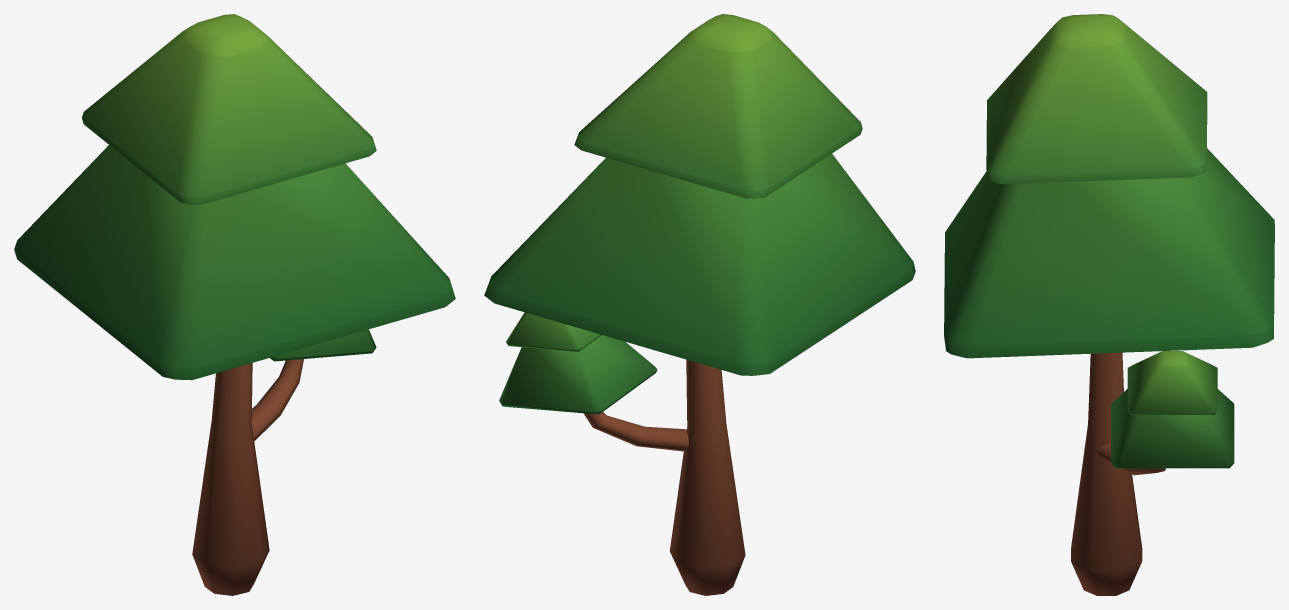
The model's file is tree-pine-round.glb.
The picture shows the model from 3 angles, left to right: view 1: azimuth 30°, elevation 25°; view 2: azimuth 150°, elevation 25°; view 3: azimuth 270°, elevation 25°; orthographic projection. The views are drawn at different scales.
Parts seen in each view (by area): view 1: tree.pine.round; view 2: tree.pine.round; view 3: tree.pine.round.
Boxes of the visible parts, left/top/right/bottom form: tree.pine.round: left=14, top=14, right=455, bottom=595; tree.pine.round: left=484, top=14, right=915, bottom=595; tree.pine.round: left=944, top=14, right=1274, bottom=595.
Size of the model in its own units: 2.81 by 5.27 by 2.81.
